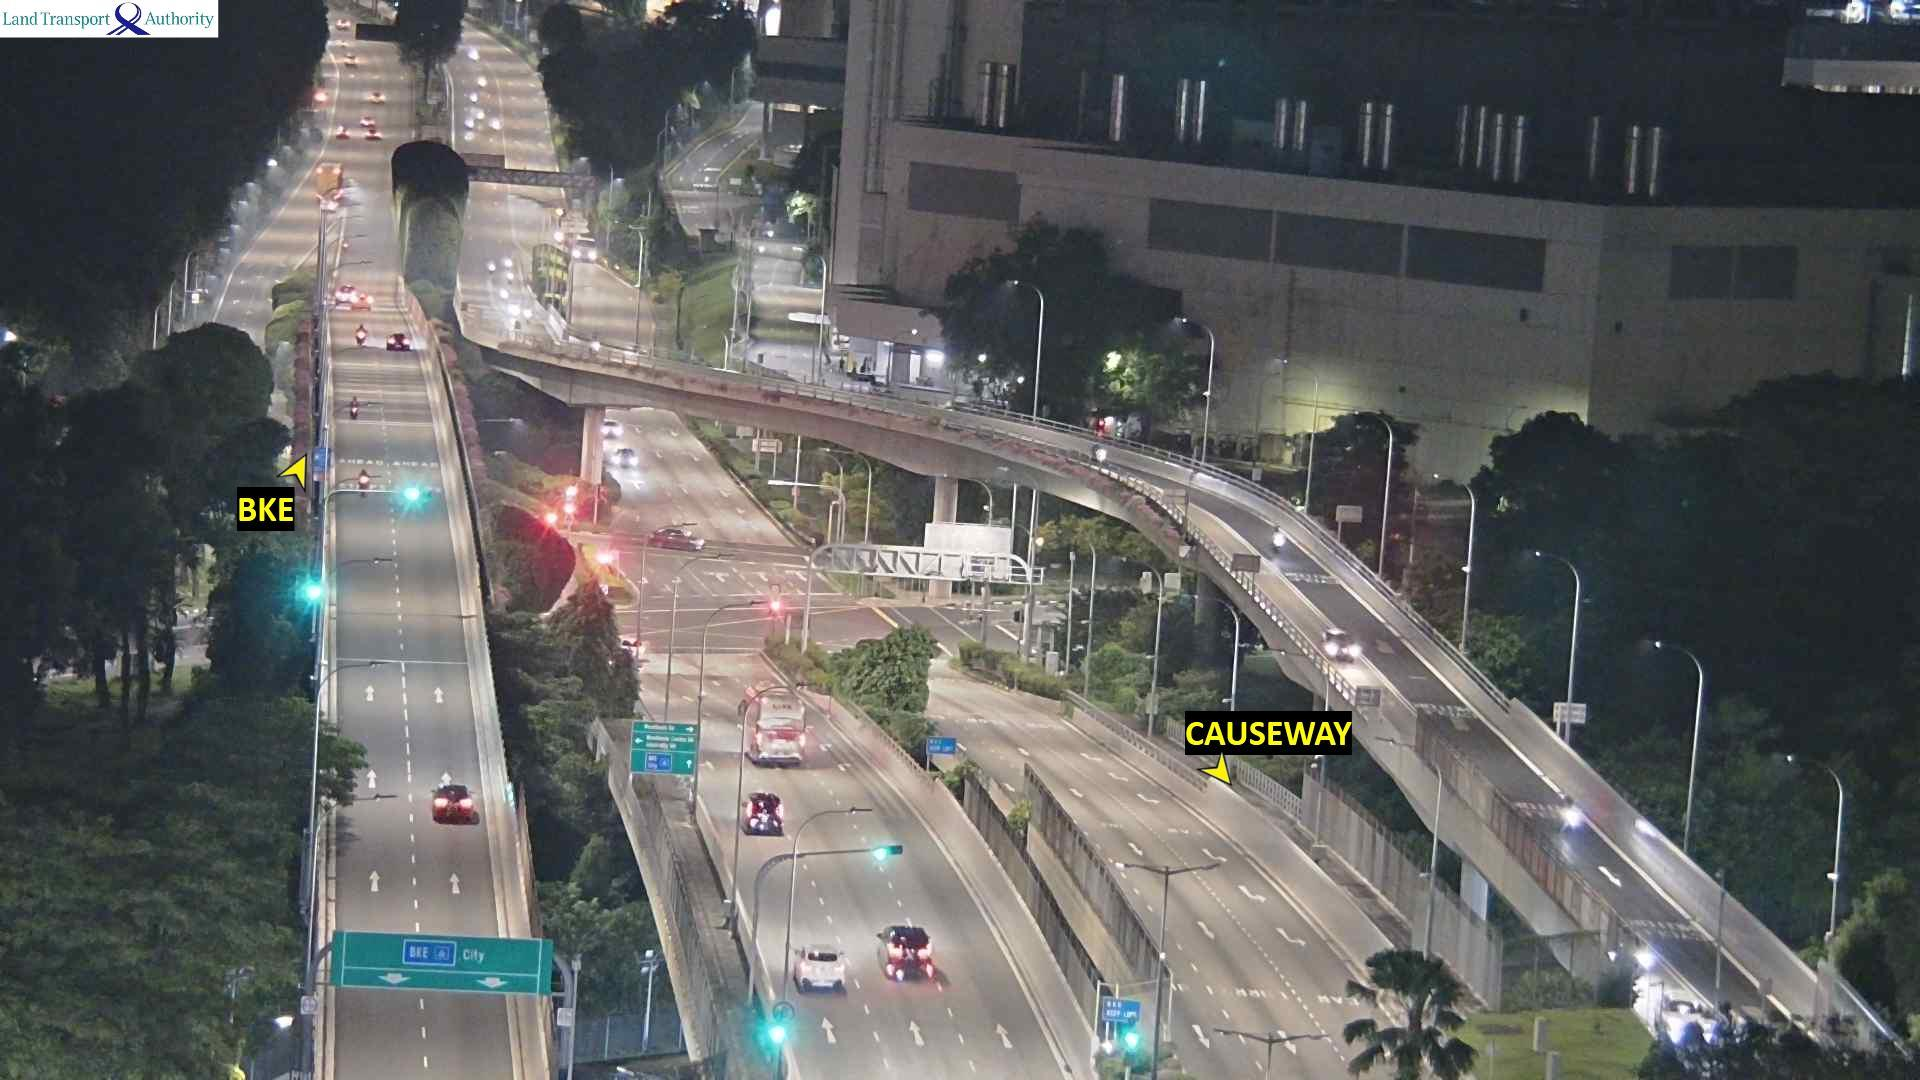vehicle-causeway-johor: (1660, 992, 1696, 1031), (1317, 625, 1356, 659), (1561, 795, 1577, 828), (1273, 522, 1284, 550), (1091, 444, 1104, 460)
vehicle-causeway-singapore: (880, 923, 938, 985), (742, 712, 806, 767), (745, 791, 786, 832), (741, 811, 791, 839), (434, 783, 473, 816), (431, 803, 479, 827), (393, 335, 409, 353), (348, 396, 360, 415), (360, 471, 371, 492), (363, 332, 376, 348)
